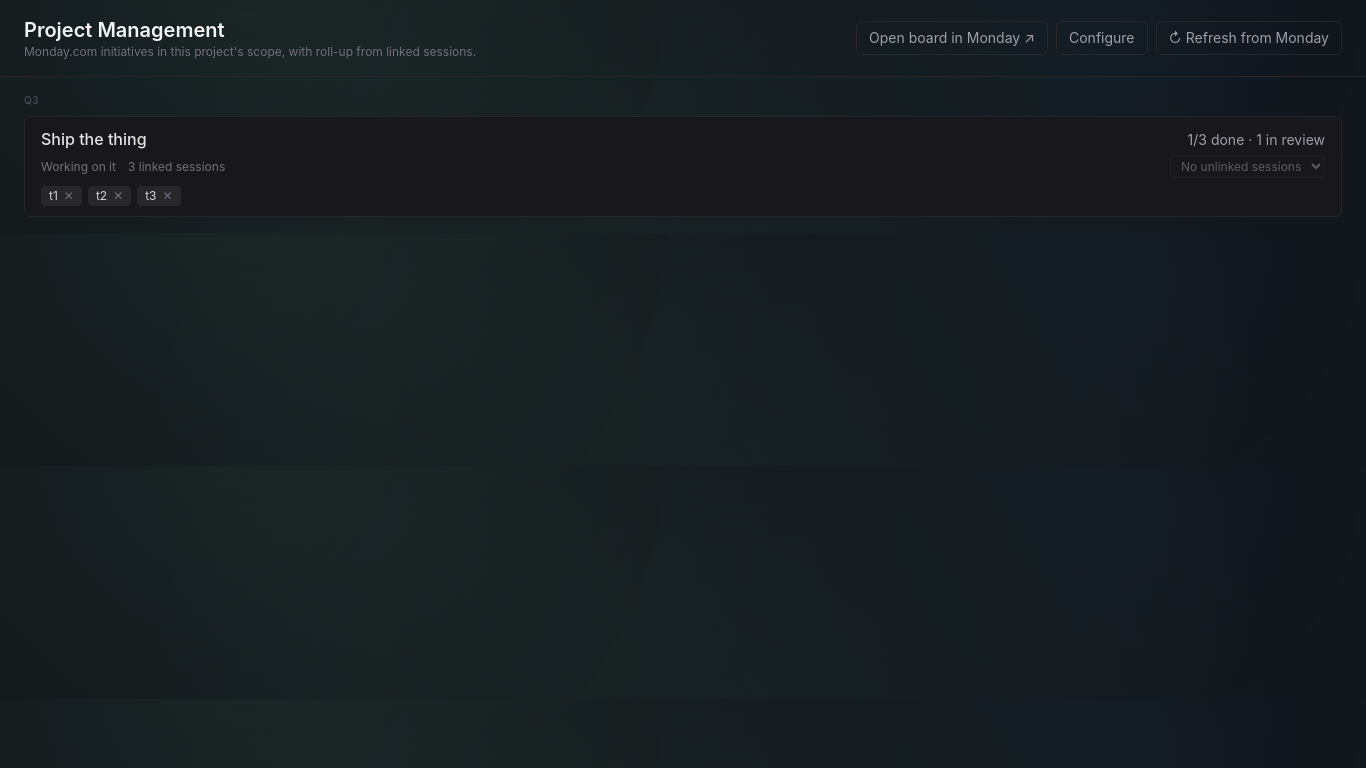
Scenario: ProjectManagementView › unlinks a session from an item row and refreshes so the roll-up updates
The width and height of the screenshot is (1366, 768).
Expected: the text "Ship the thing" is shown, x1=41 y1=127 x2=147 y2=151
Expected: the text "t1" is shown, x1=49 y1=188 x2=58 y2=204
Click the button named "unlink session t1" at {"x": 69, "y": 196}, box x1=64 y1=188 x2=74 y2=204
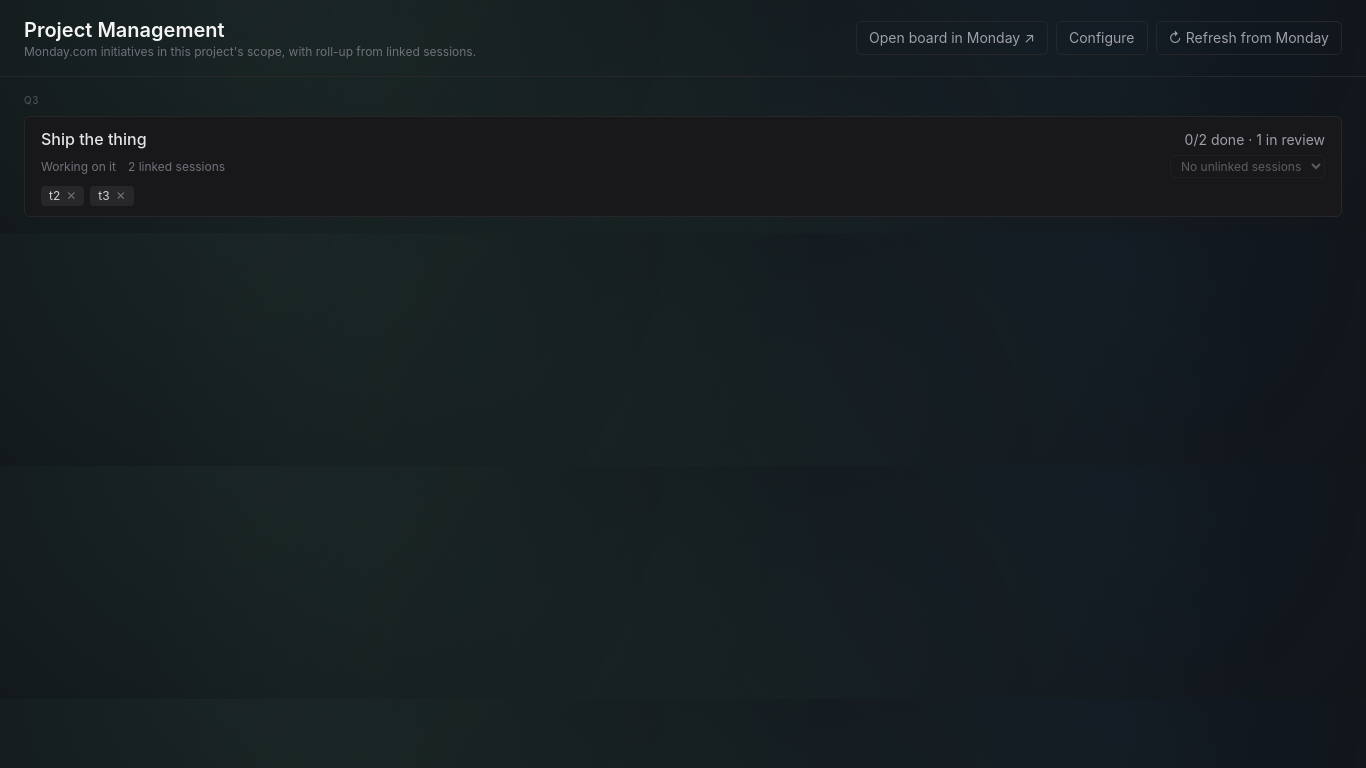
Expected: the text "t2" is shown, x1=49 y1=188 x2=60 y2=204
Result: the text "0/2 done · 1 in review" is shown at x1=1184 y1=130 x2=1325 y2=150
Result: the text "t1" is gone
